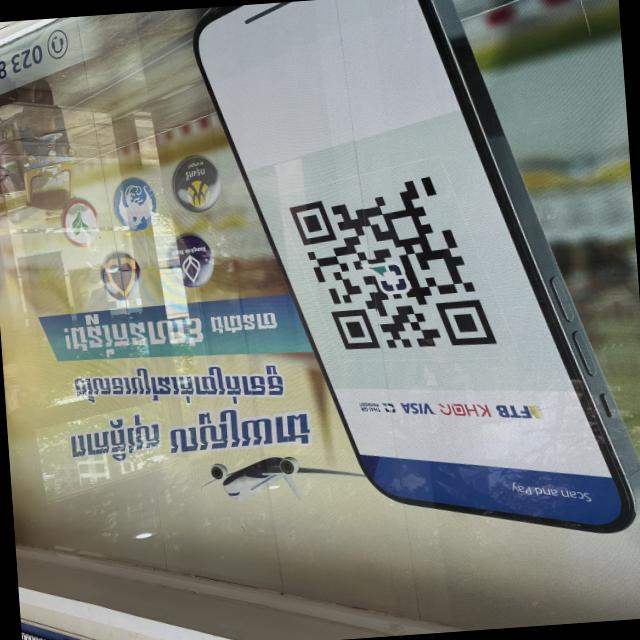1: (65, 397, 323, 468)
Yolov11kh: (58, 299, 292, 357), (67, 364, 293, 405)
